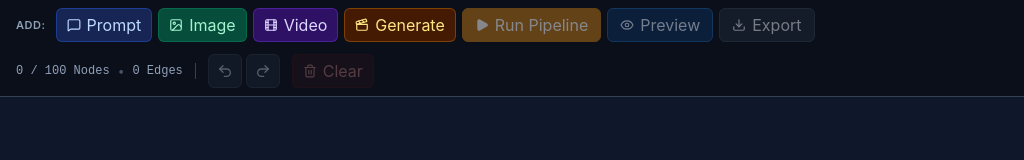
Test case: CanvasWorkspace Component › adds an image, video, and generation node properly
Click the button with aria-label "add image node" at x=202, y=25, box [158, 8, 247, 42]
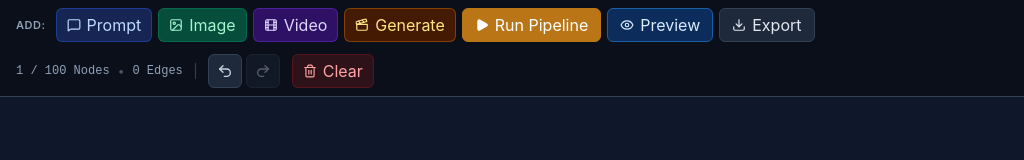
Click the button with aria-label "add video node" at x=296, y=25, box [253, 8, 338, 42]
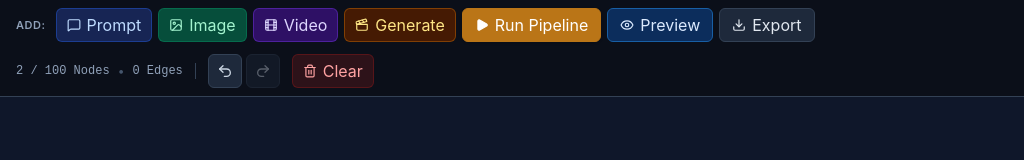
Click the button with aria-label "add generation node" at x=400, y=25, box [344, 8, 456, 42]
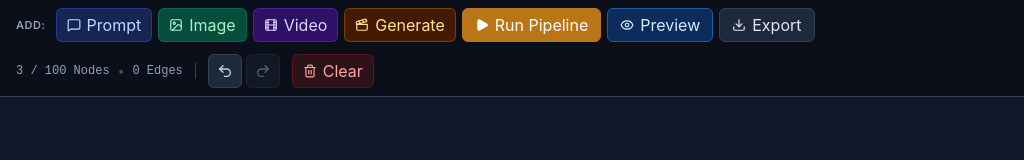
Expected: the text "3 / 100 Nodes" is shown, [16, 63, 110, 79]
